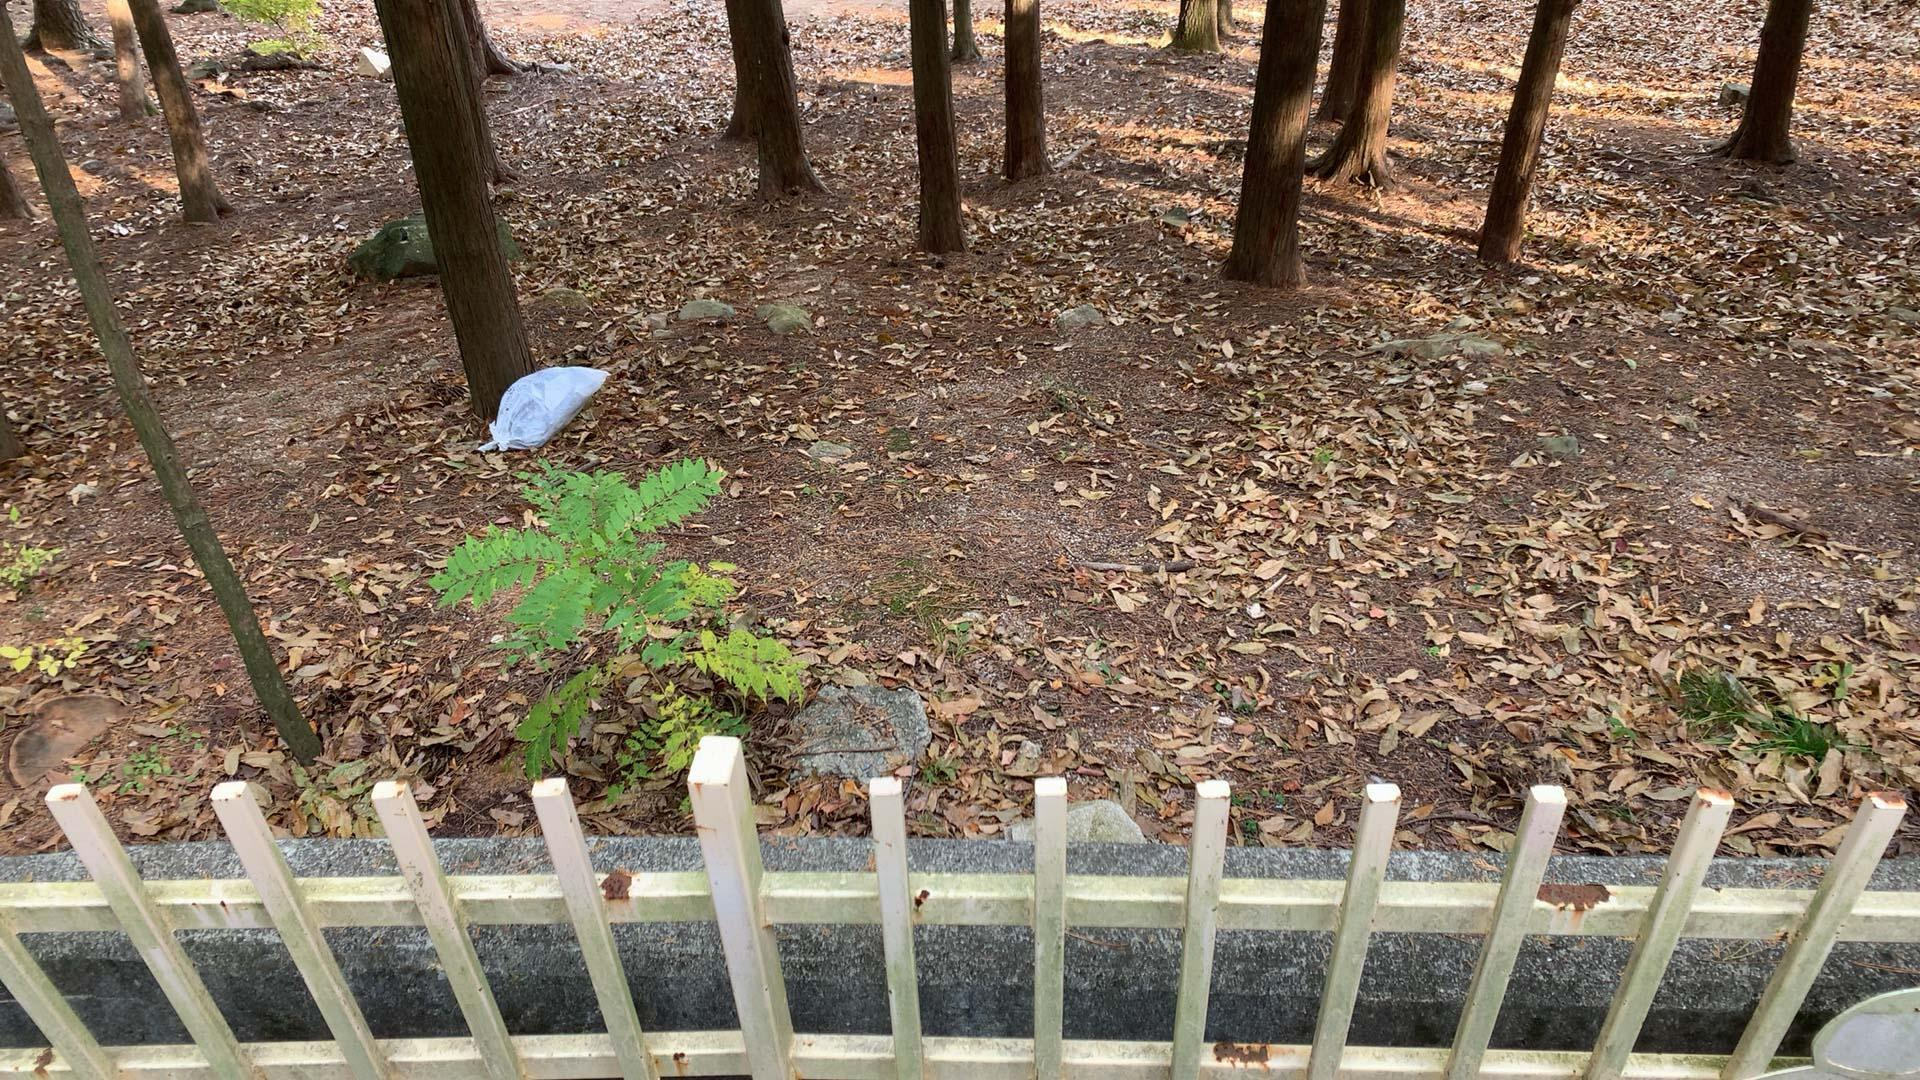white_bag: (456, 356, 626, 467)
